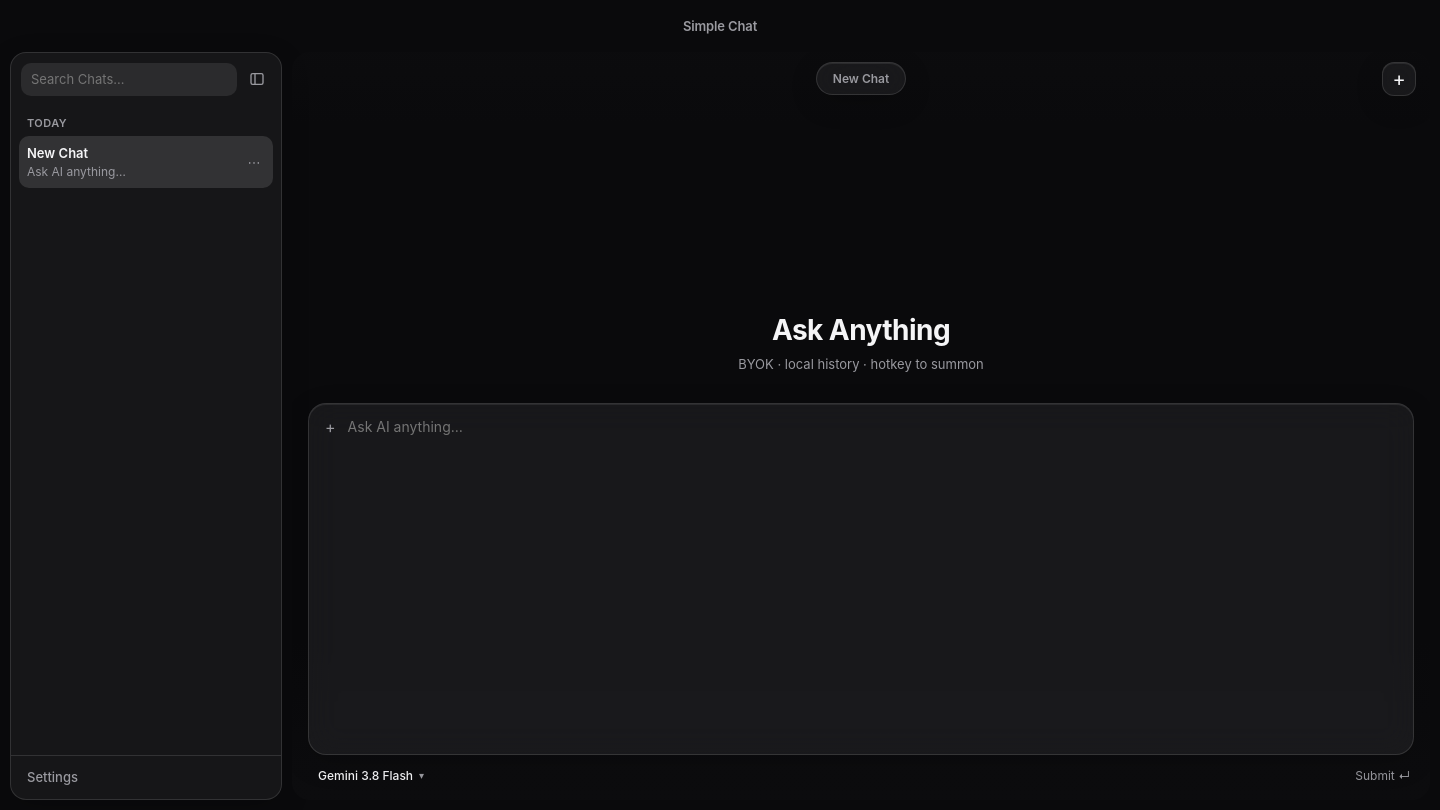
it: App UX › shows reopen control when sidebar is closed
Click the button titled "Hide sidebar (⌘/Ctrl+B)". click: (257, 79)
box: [243, 65, 271, 93]
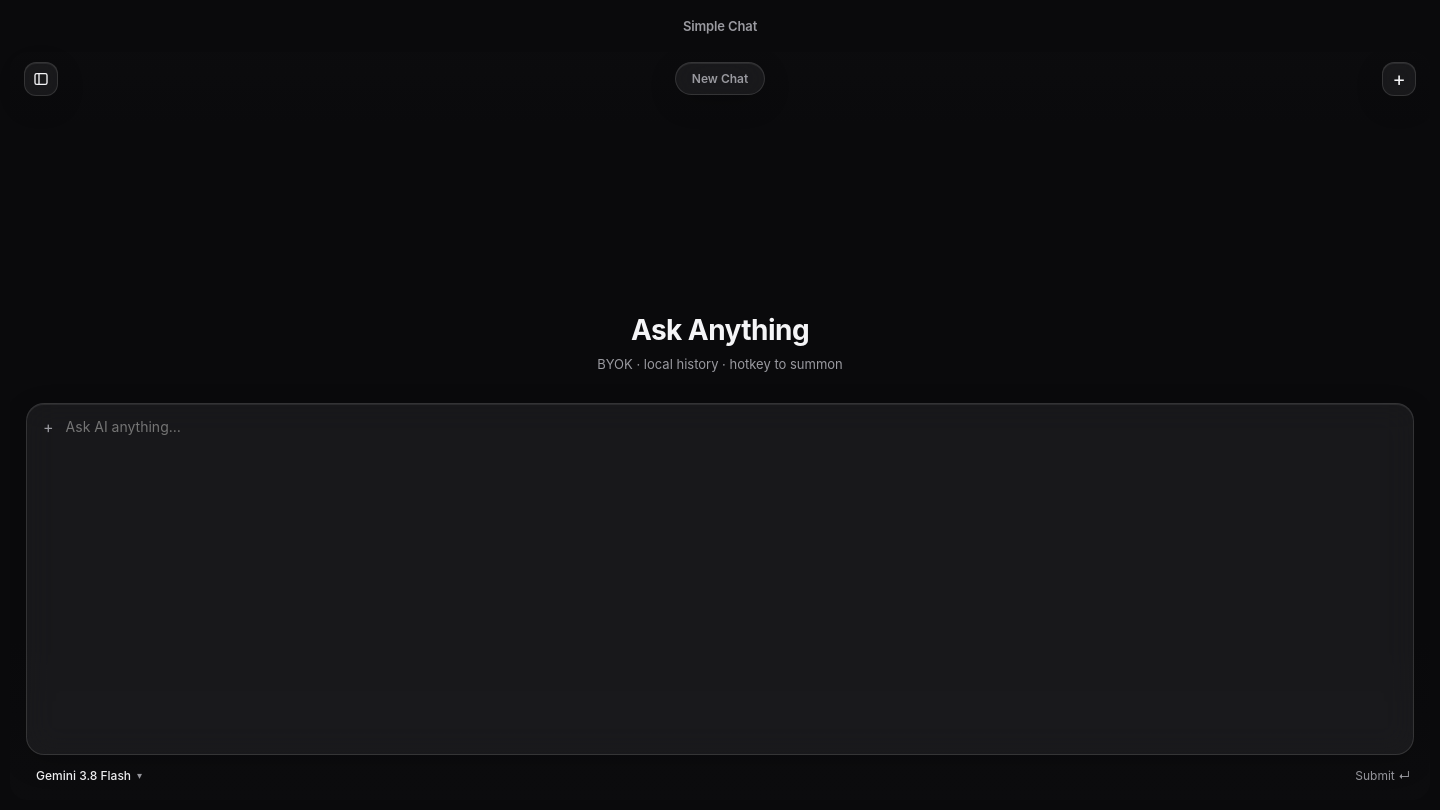
Expected: the button titled "Show sidebar (⌘/Ctrl+B)" is shown, [24, 62, 58, 96]
